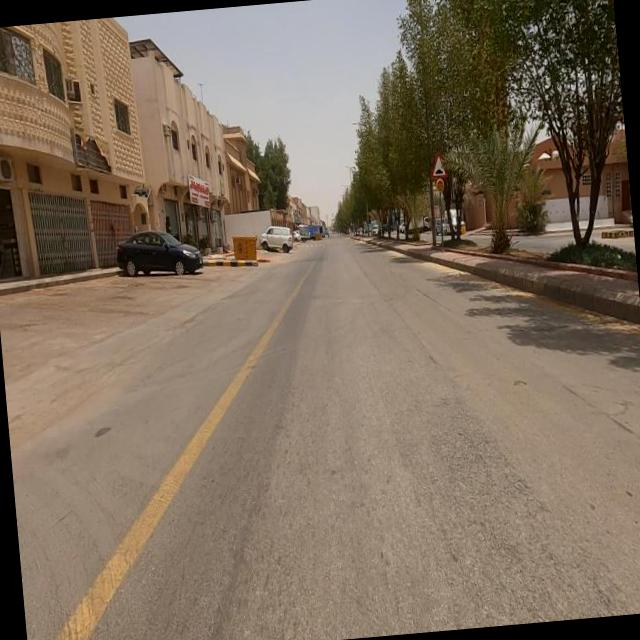debris: (44, 100, 150, 218)
